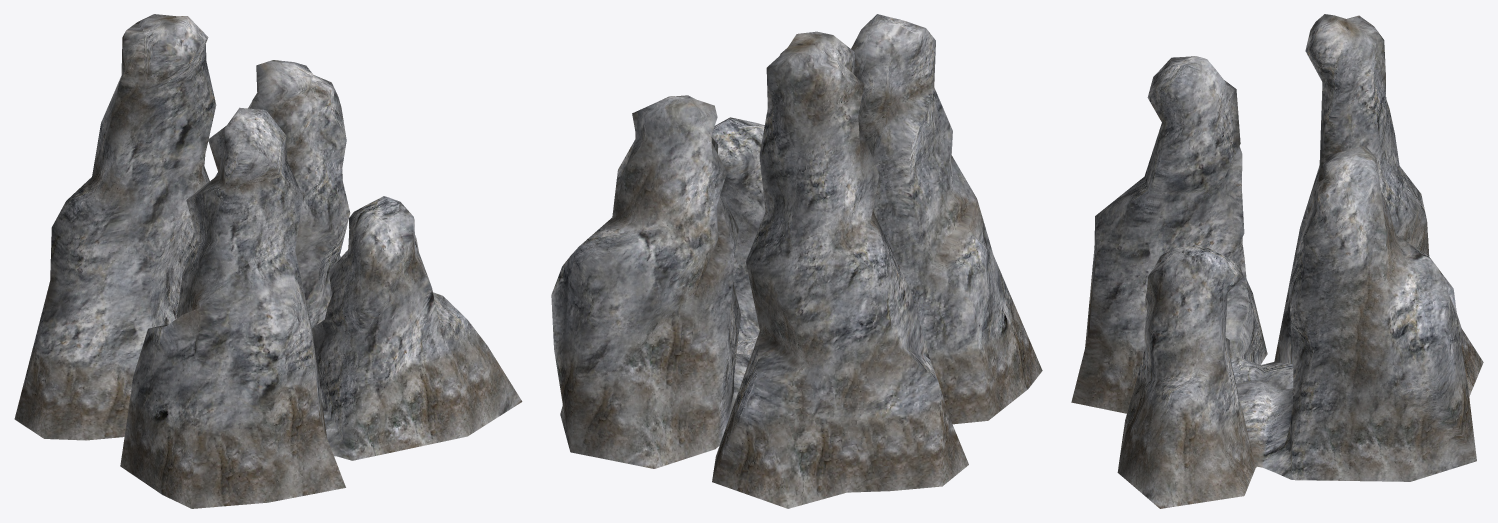
Rendered from ruin-debris.glb.
3 renders of one model, left to right at view 1: azimuth 30°, elevation 25°; view 2: azimuth 150°, elevation 25°; view 3: azimuth 270°, elevation 25°, orthographic. The views are drawn at different scales.
Parts seen in each view (by area): view 1: ruin-debris; view 2: ruin-debris; view 3: ruin-debris.
Boxes of the visible parts, x1,y1,x2,y2 form: ruin-debris: [14, 14, 522, 508]; ruin-debris: [551, 14, 1042, 508]; ruin-debris: [1071, 14, 1483, 508].
Bounding box in the file's own units: 10.87 × 9.98 × 10.06.
Materials: 1 (1 with a texture image).
